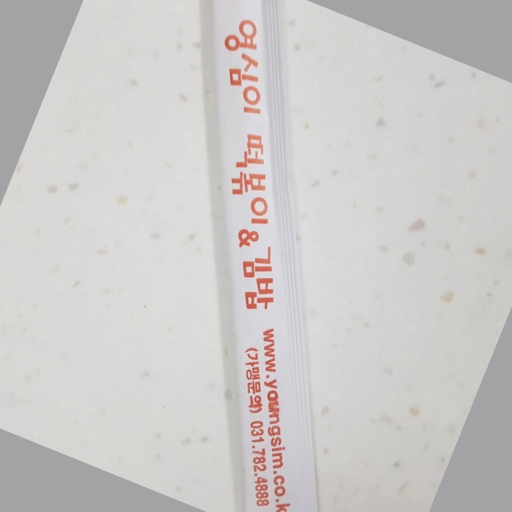Paper_2: (196, 1, 320, 512)
